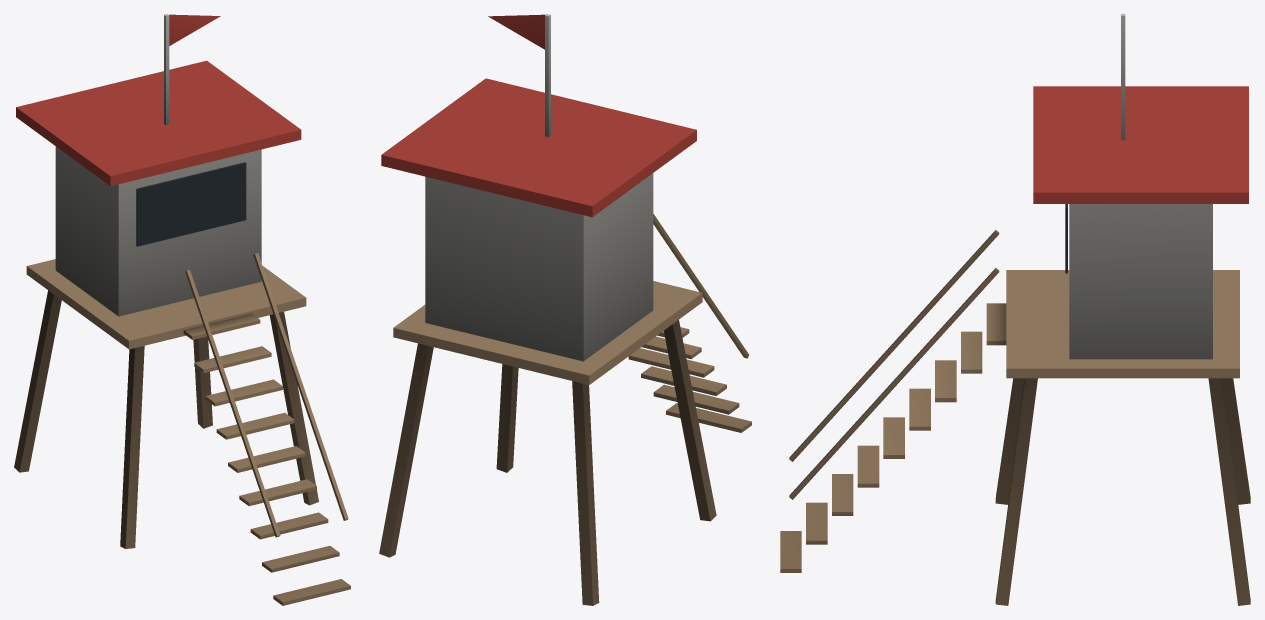
Rendered from rettungsturm.glb.
3 renders of one model, left to right at view 1: azimuth 30°, elevation 25°; view 2: azimuth 150°, elevation 25°; view 3: azimuth 270°, elevation 25°, orthographic. The views are drawn at different scales.
Parts seen in each view (by area): view 1: lack, glas, farbe; view 2: lack, farbe; view 3: lack.
Boxes of the visible parts, <box> form: lack: <box>14,14,350,605</box>; glas: <box>136,162,246,246</box>; farbe: <box>169,14,220,45</box>; lack: <box>379,14,751,605</box>; farbe: <box>488,14,545,49</box>; lack: <box>780,14,1250,605</box>.
Bounding box in the file's own units: 2.84 × 6.63 × 5.24.
